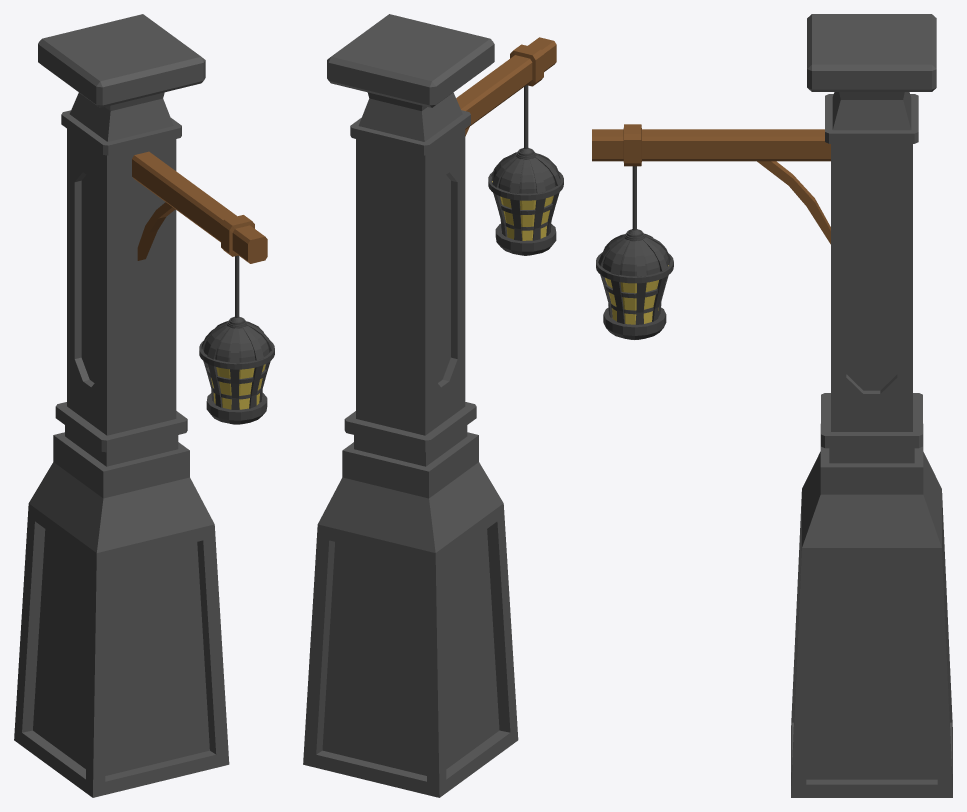
The model's file is StreenLamp_01.fbx.
3 renders of one model, left to right at view 1: azimuth 30°, elevation 25°; view 2: azimuth 150°, elevation 25°; view 3: azimuth 270°, elevation 25°, orthographic. The views are drawn at different scales.
Parts seen in each view (by area): view 1: Cube; view 2: Cube; view 3: Cube.
Boxes of the visible parts, x1,y1,x2,y2 form: Cube: (14,14,274,797); Cube: (303,14,563,797); Cube: (592,14,952,797).
Size of the model in its own units: 100 by 493 by 223.
